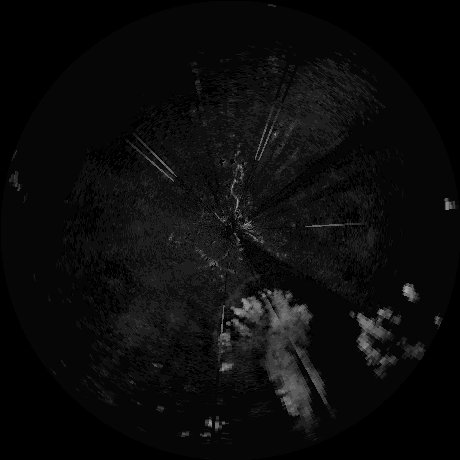frontgust: (217, 274, 256, 331)
